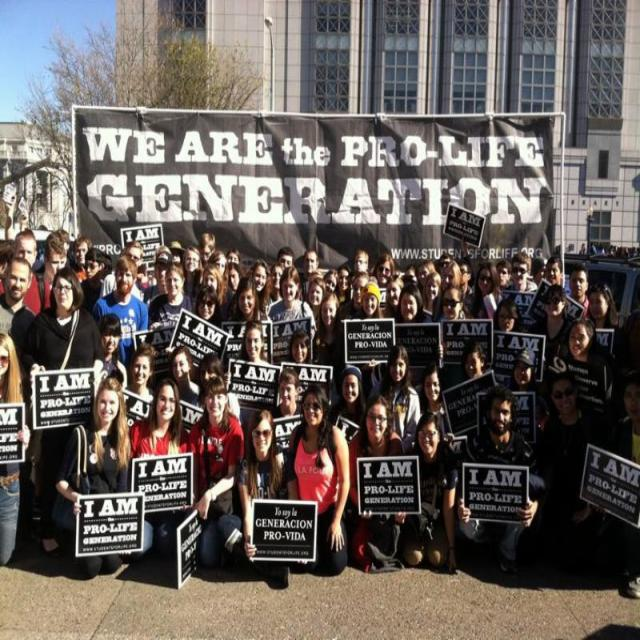body: (26, 263, 102, 548), (48, 375, 142, 582), (457, 386, 542, 568), (532, 370, 604, 563), (282, 381, 351, 577), (186, 374, 247, 576), (0, 254, 39, 552), (345, 392, 406, 574), (393, 410, 459, 574), (235, 408, 301, 563), (0, 330, 31, 567), (222, 318, 282, 439), (92, 254, 150, 376), (528, 282, 578, 418), (367, 343, 422, 456), (395, 280, 447, 395), (129, 378, 190, 459), (0, 227, 52, 319), (566, 319, 616, 412), (90, 313, 129, 432), (350, 280, 388, 400), (312, 290, 350, 407), (504, 348, 547, 448), (266, 264, 318, 342), (334, 270, 371, 367), (121, 340, 159, 430), (196, 353, 242, 427), (146, 260, 192, 334), (98, 239, 146, 303), (169, 344, 202, 436), (609, 368, 640, 464), (329, 365, 368, 441), (435, 284, 475, 358), (270, 367, 304, 453), (418, 361, 454, 434), (224, 274, 274, 325), (76, 245, 110, 316), (194, 262, 230, 329), (464, 259, 503, 319), (406, 255, 473, 289), (583, 277, 621, 330), (38, 230, 68, 289), (244, 257, 274, 316), (141, 245, 170, 306), (564, 261, 592, 322), (190, 284, 223, 332), (181, 244, 203, 313), (492, 296, 530, 335), (504, 251, 538, 292), (298, 247, 320, 310), (380, 272, 407, 323), (578, 240, 640, 261), (371, 252, 395, 306), (305, 276, 328, 332), (284, 325, 314, 365), (70, 234, 94, 284), (218, 260, 246, 301), (458, 341, 486, 381), (263, 262, 285, 310), (422, 270, 443, 314), (206, 249, 230, 285), (334, 262, 354, 305), (197, 232, 217, 266), (494, 257, 513, 292), (152, 238, 182, 260), (528, 255, 546, 287), (352, 247, 371, 277), (545, 254, 563, 284), (276, 245, 295, 270), (322, 268, 340, 293), (56, 227, 70, 257), (225, 244, 242, 262), (458, 238, 470, 255)
